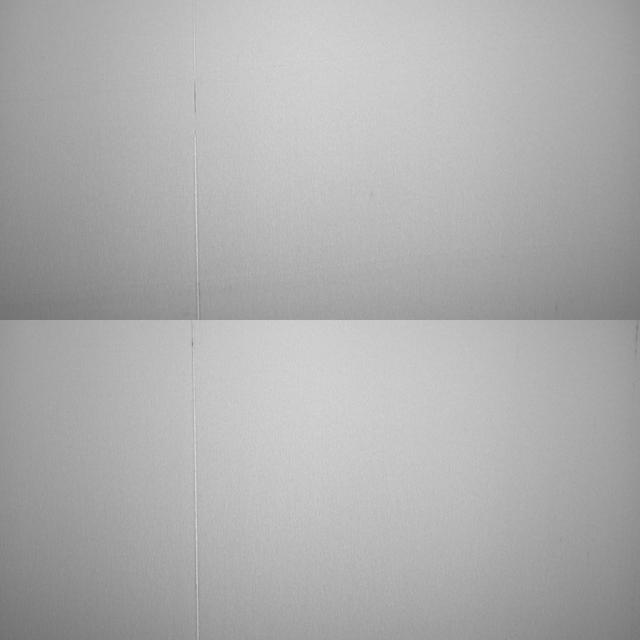Warp_Weft: (190, 315, 201, 640), (192, 0, 200, 324)
